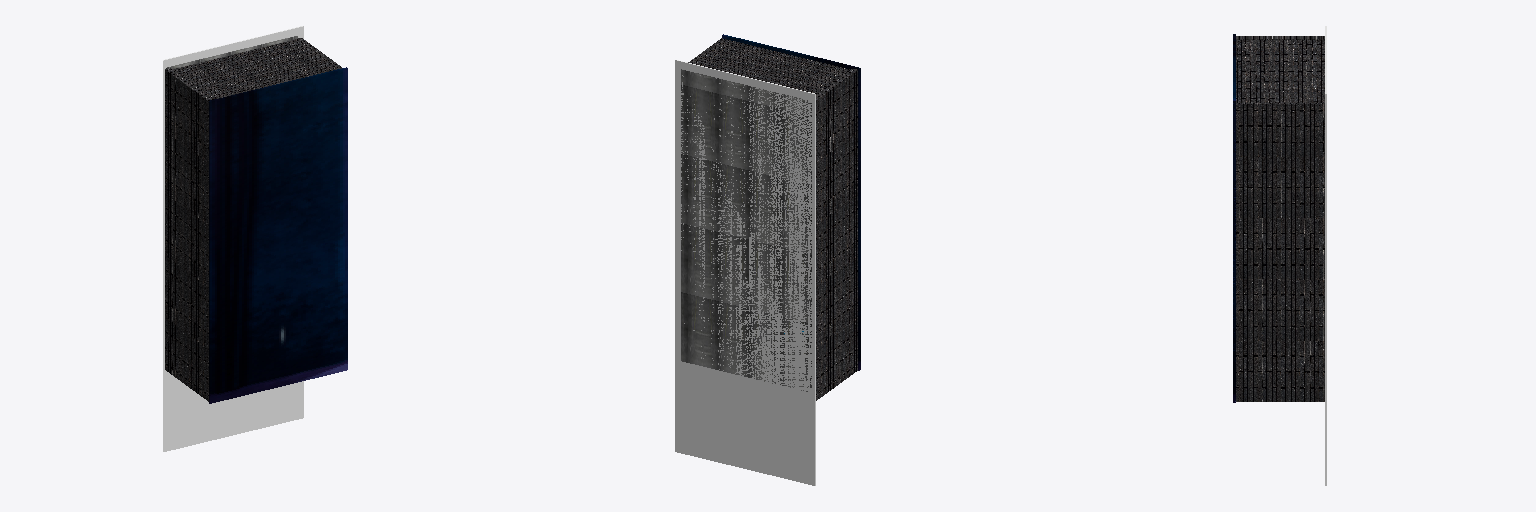
3 renders of one model, left to right at view 1: azimuth 30°, elevation 25°; view 2: azimuth 150°, elevation 25°; view 3: azimuth 270°, elevation 25°, orthographic.
Size of the model in its own units: 169 by 452 by 97.27.
Materials: 15 (12 with a texture image).